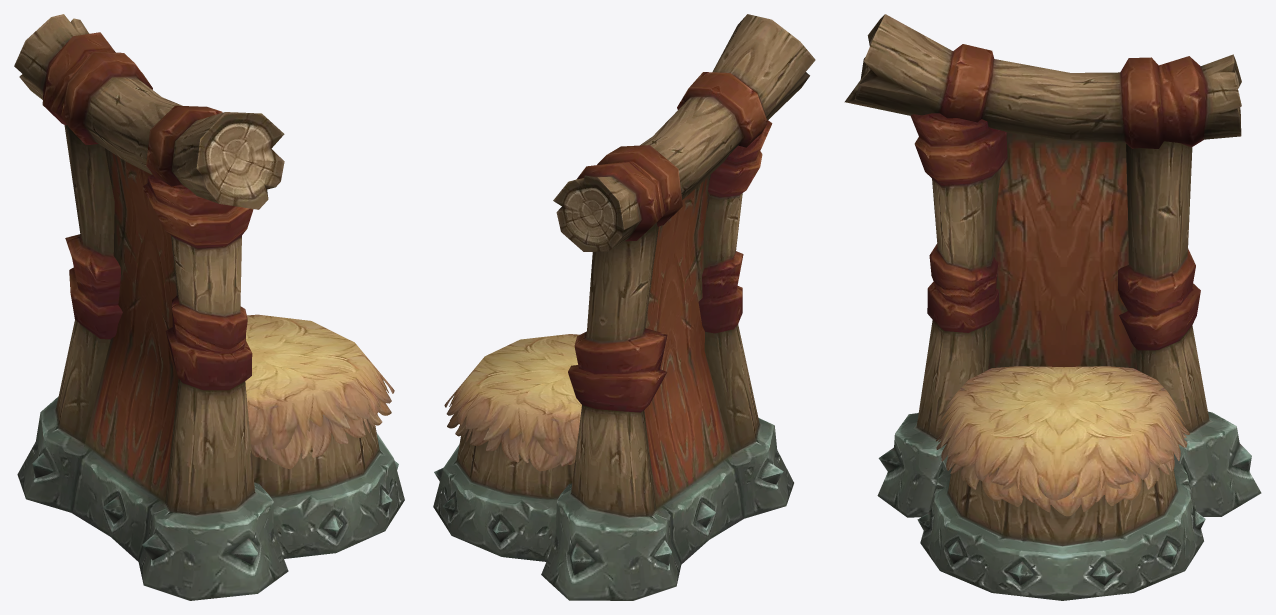
3 renders of one model, left to right at view 1: azimuth 30°, elevation 25°; view 2: azimuth 150°, elevation 25°; view 3: azimuth 270°, elevation 25°, orthographic. The views are drawn at different scales.
Size of the model in its own units: 0.9242 by 1.43 by 1.15.
2 materials, 2 textured.
